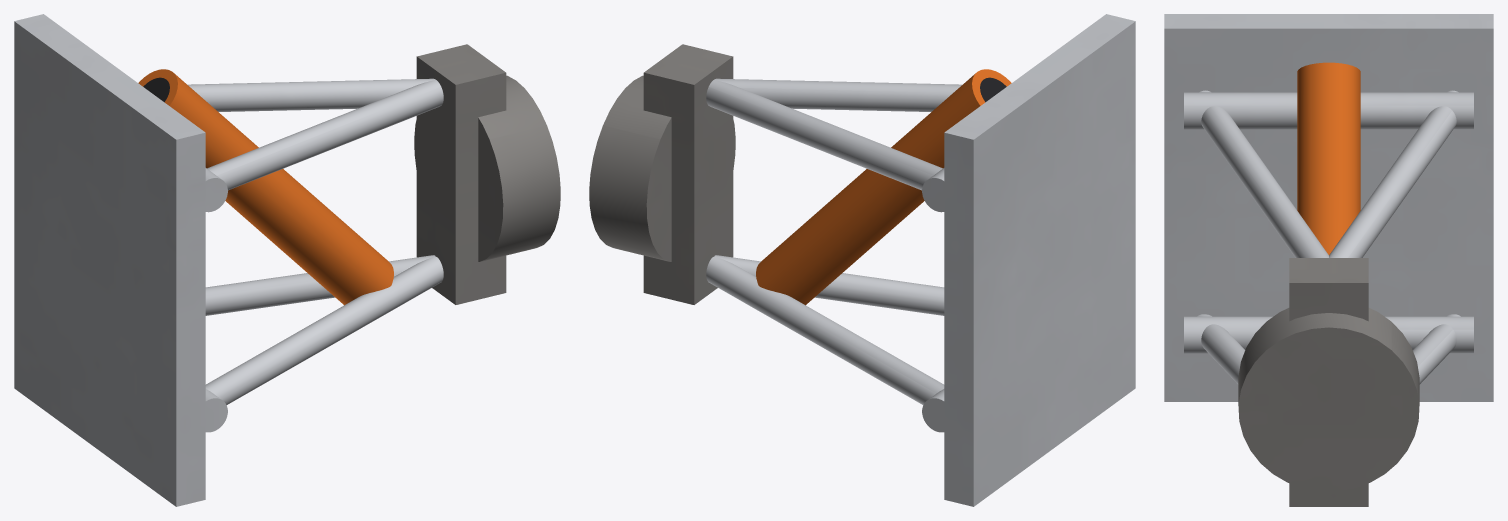
Rendered from rover17_suspension_arm_s.glb.
3 renders of one model, left to right at view 1: azimuth 30°, elevation 25°; view 2: azimuth 150°, elevation 25°; view 3: azimuth 270°, elevation 25°, orthographic.
Parts seen in each view (by area): view 1: mount_plate, arm_upright, spring, arm_upper, arm_lower; view 2: mount_plate, arm_upright, spring, arm_upper, arm_lower; view 3: mount_plate, arm_upright, arm_upper, spring, arm_lower.
Part boxes in pixels (x1,y1,x2,y2): mount_plate: (14,14,205,506); arm_upright: (414,44,560,304); spring: (138,69,393,305); arm_upper: (187,78,443,212); arm_lower: (205,255,443,432); mount_plate: (944,14,1135,506); arm_upright: (589,44,735,304); spring: (756,69,1011,305); arm_upper: (706,78,962,212); arm_lower: (706,255,944,432); mount_plate: (1164,14,1493,401); arm_upright: (1238,258,1419,506); arm_upper: (1184,90,1473,257); spring: (1297,62,1360,254); arm_lower: (1184,314,1473,384).
Size of the model in its own units: 0.3 by 0.25 by 0.2.
Materials: 4 (2 with a texture image).
